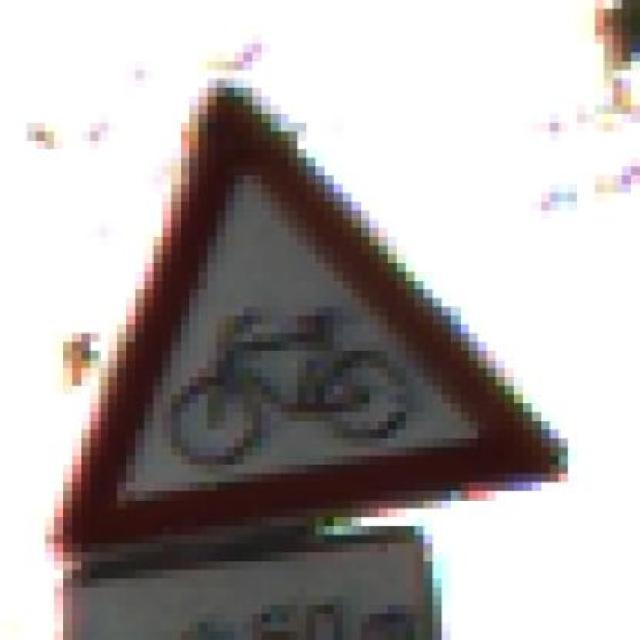CYCLE ROUTE AHEAD WARNING: (36, 62, 596, 572)
